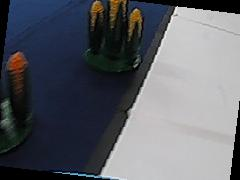corn: (79, 0, 148, 71), (2, 45, 35, 149)
